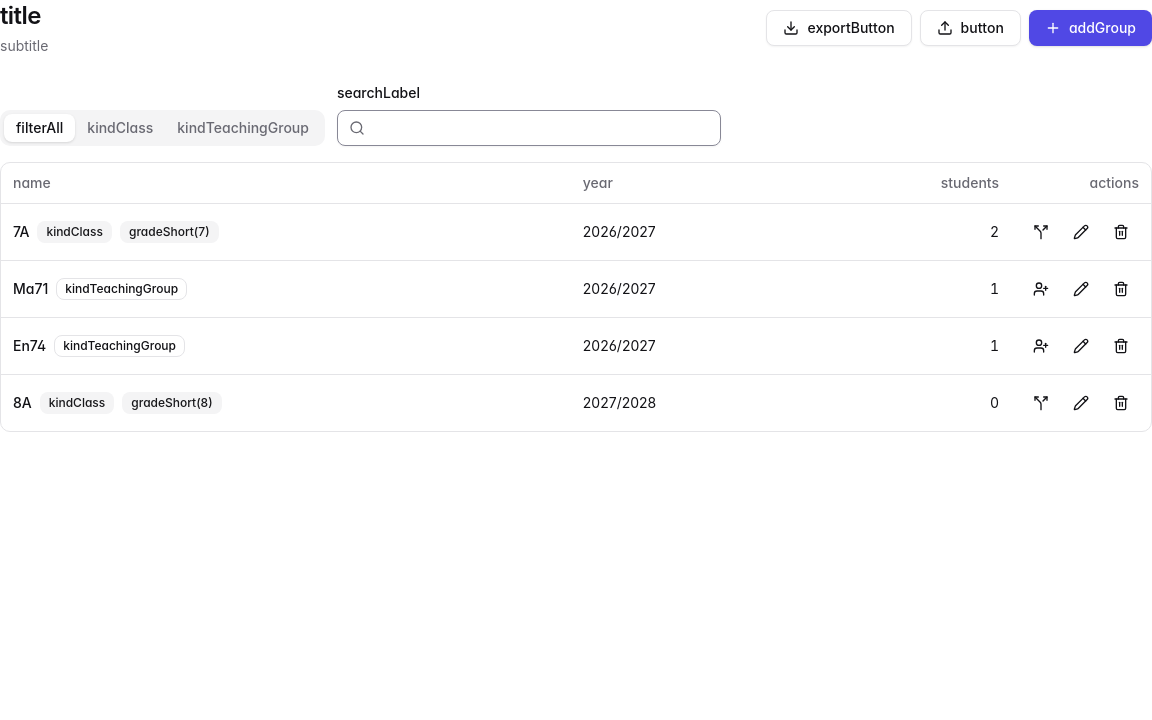
Test: Groups page › says the members could not be read, and keeps the save shut, when the read fails
Step 1. Click the button named "membersTitle(Ma71)" → [1041, 288], box [1023,270,1059,306]
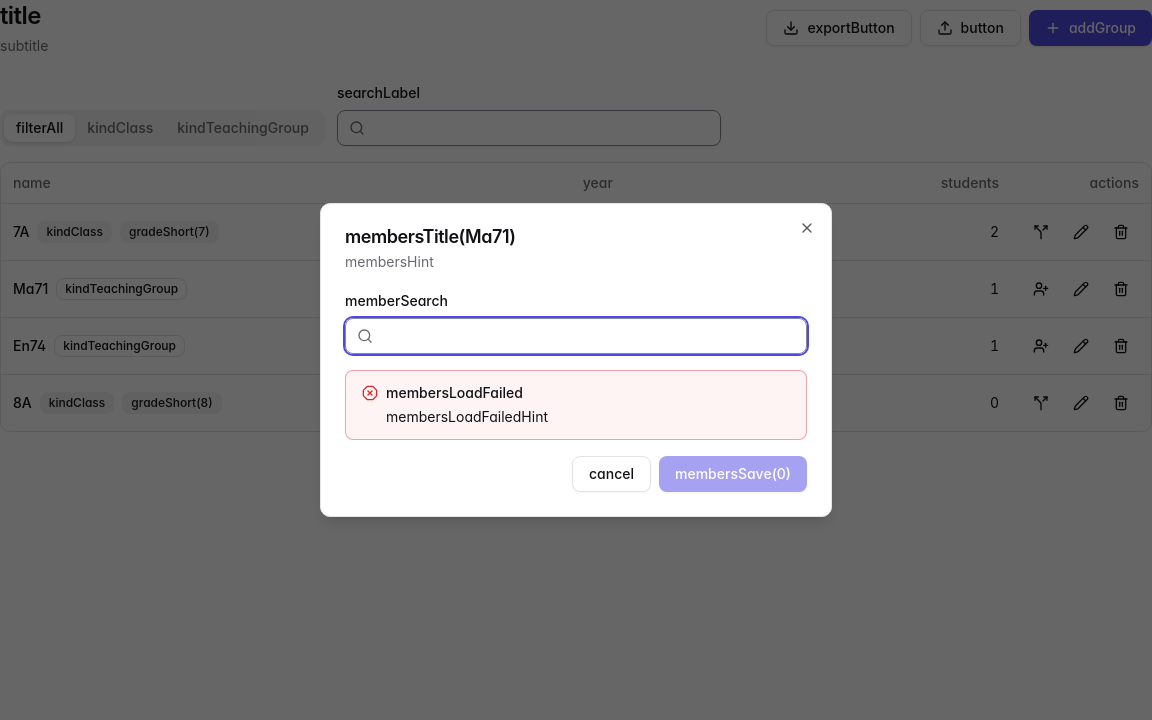
Result: the message shows "membersLoadFailed" at [386,384,523,401]
Result: the button "membersSave(0)" is disabled at [659,456,807,492]
